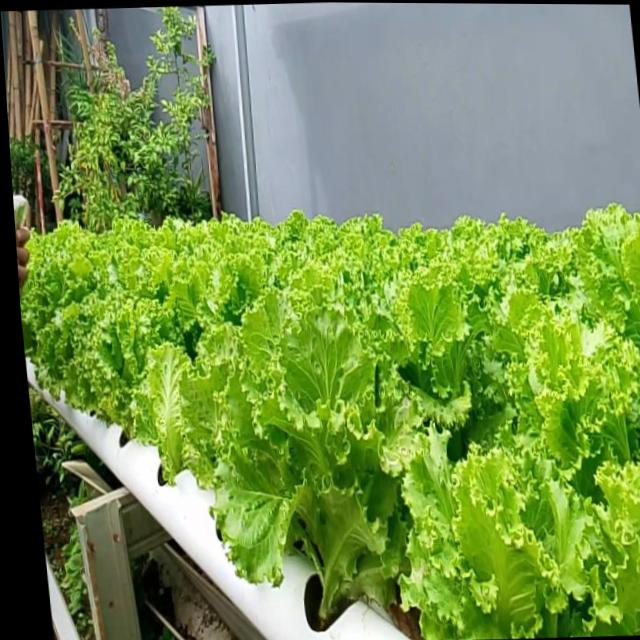Mature: (19, 210, 640, 640), (190, 307, 418, 638), (63, 295, 173, 458)
